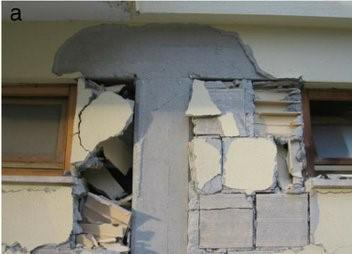crack: (185, 73, 312, 254), (206, 30, 270, 79), (74, 91, 100, 155), (188, 206, 253, 212), (153, 96, 176, 112), (2, 188, 58, 194), (230, 64, 245, 79), (312, 240, 327, 253), (315, 190, 352, 194), (277, 151, 286, 162), (205, 137, 222, 140)
damage: (0, 77, 138, 254)
